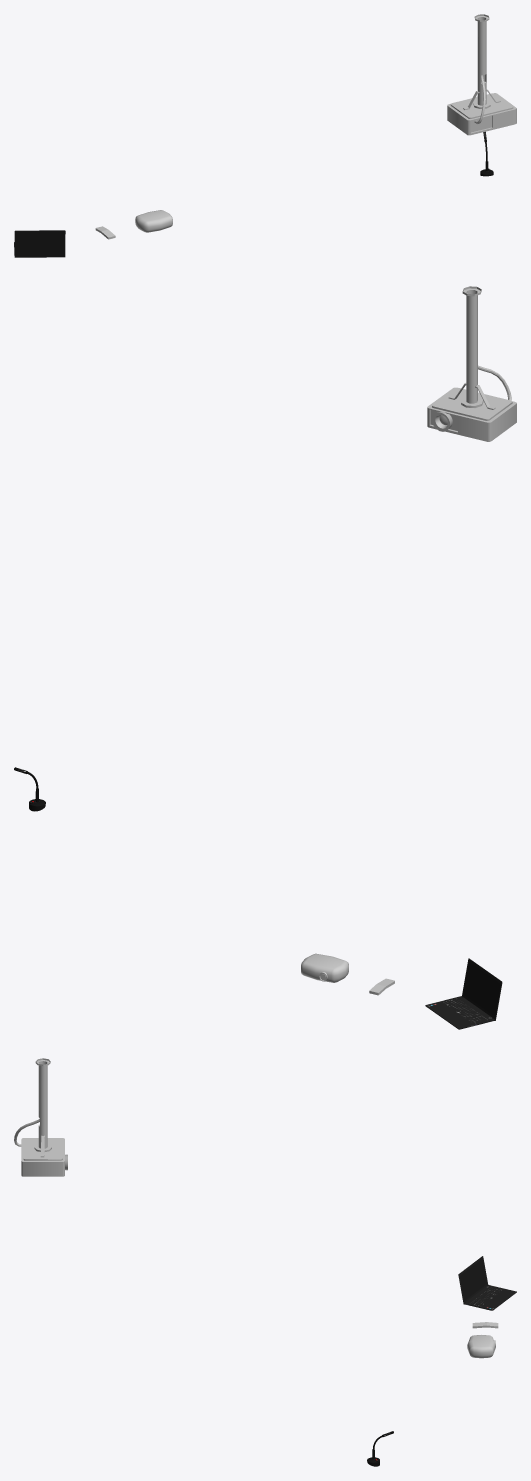
Rendered from MeshBaker (0)-mesh-mesh.fbx.
The picture shows the model from 3 angles, top to bottom: view 1: azimuth 30°, elevation 25°; view 2: azimuth 150°, elevation 25°; view 3: azimuth 270°, elevation 25°; orthographic projection. The views are drawn at different scales.
Visible parts, largest first — view 1: MeshBaker__0__mesh_mesh; view 2: MeshBaker__0__mesh_mesh; view 3: MeshBaker__0__mesh_mesh.
Part boxes in pixels (bbox=[...]): MeshBaker__0__mesh_mesh: bbox=[14, 14, 516, 257]; MeshBaker__0__mesh_mesh: bbox=[14, 286, 516, 1029]; MeshBaker__0__mesh_mesh: bbox=[14, 1058, 516, 1466].
Bounding box in the file's own units: 633 × 491 × 654.
